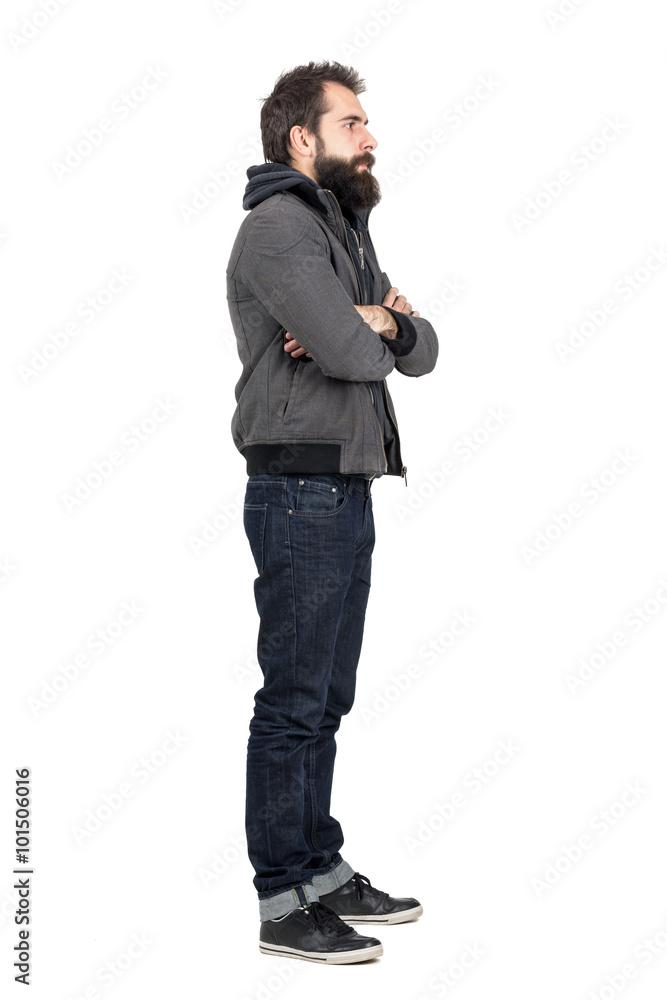jacket: (209, 159, 443, 485)
trousers: (236, 473, 380, 924)
